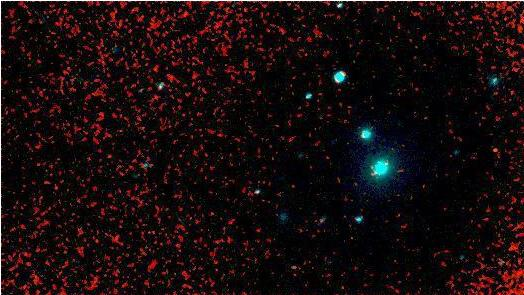star: (480, 133, 510, 163)
